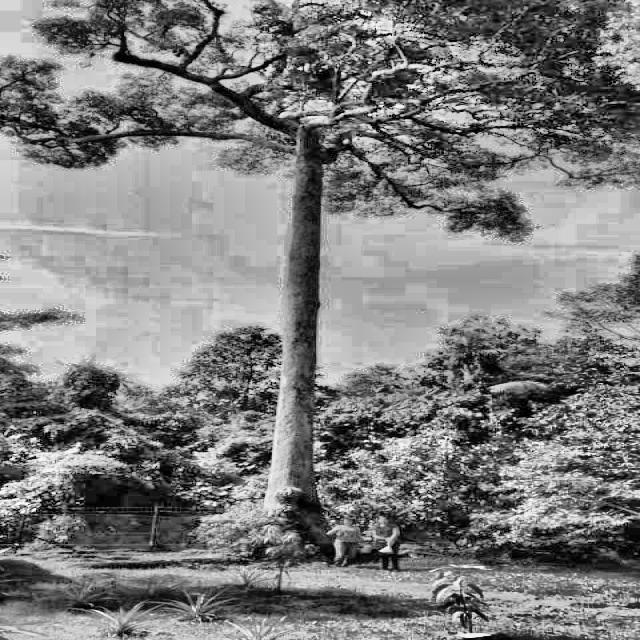arvore: (232, 18, 352, 572)
